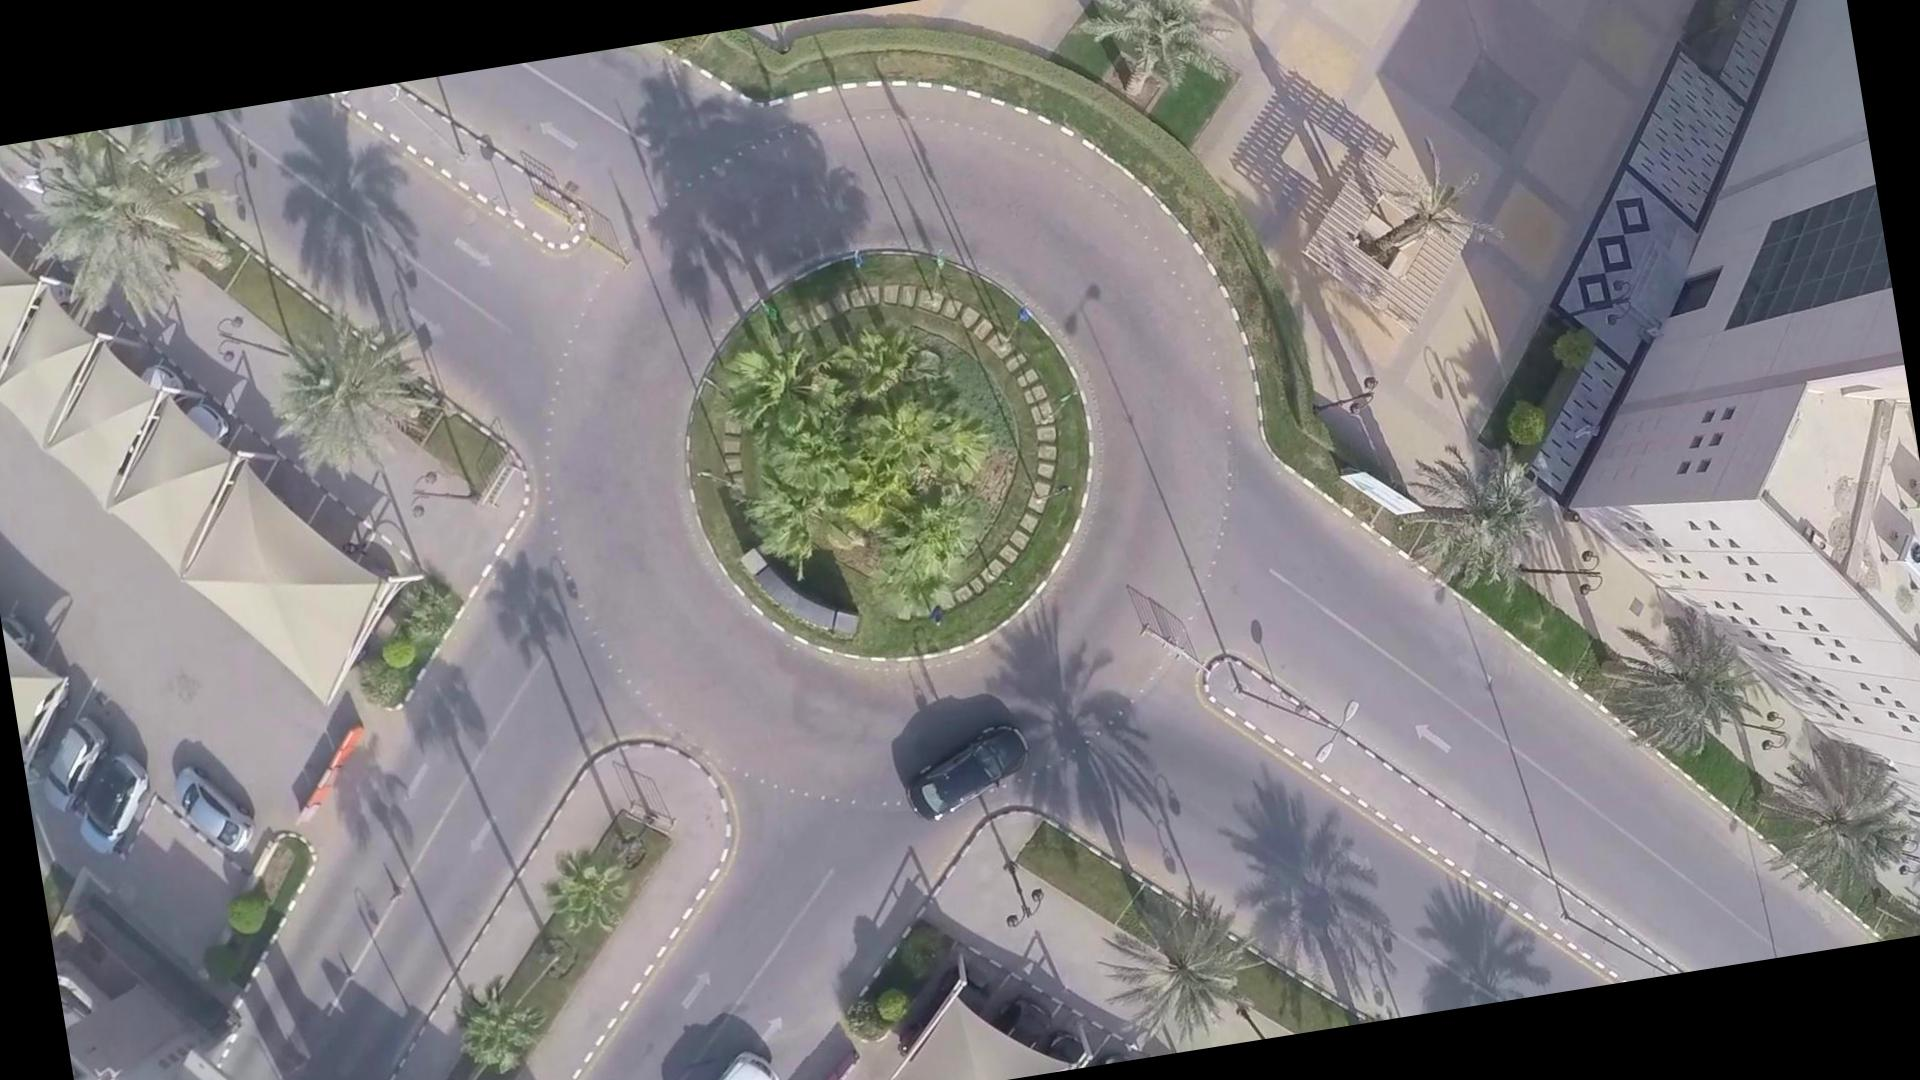vehicle: (894, 719, 1048, 824)
